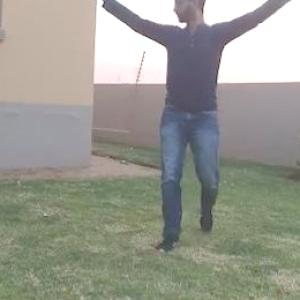takeoff: (78, 0, 299, 258)
